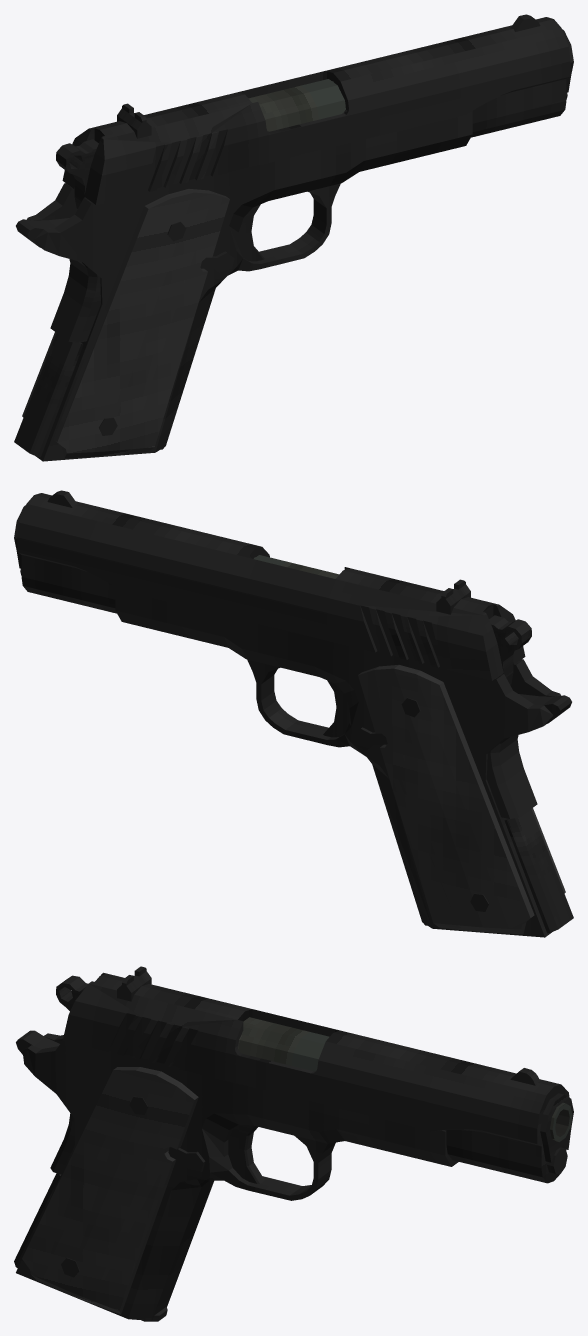
Rendered from shop-item-1053.glb.
3 views of the same model, one above another, from view 1: azimuth 30°, elevation 25°; view 2: azimuth 150°, elevation 25°; view 3: azimuth 330°, elevation 25° (orthographic).
Visible parts, largest first — view 1: M1911, Slide, Hammer, Trigger; view 2: M1911, Slide, Hammer, Trigger; view 3: M1911, Slide, Trigger, Hammer.
Boxes of the visible parts, bbox=[...] form: M1911: bbox=[14, 79, 472, 461]; Slide: bbox=[62, 14, 573, 204]; Hammer: bbox=[56, 139, 98, 208]; Trigger: bbox=[238, 204, 264, 261]; M1911: bbox=[115, 555, 573, 937]; Slide: bbox=[14, 490, 525, 680]; Hammer: bbox=[489, 615, 531, 684]; Trigger: bbox=[323, 680, 349, 737]; M1911: bbox=[14, 1017, 572, 1320]; Slide: bbox=[62, 966, 573, 1183]; Trigger: bbox=[228, 1124, 264, 1183]; Hammer: bbox=[56, 975, 87, 1010].
Size of the model in its own units: 2.64 by 1.58 by 0.3253.
Materials: 1 (1 with a texture image).
